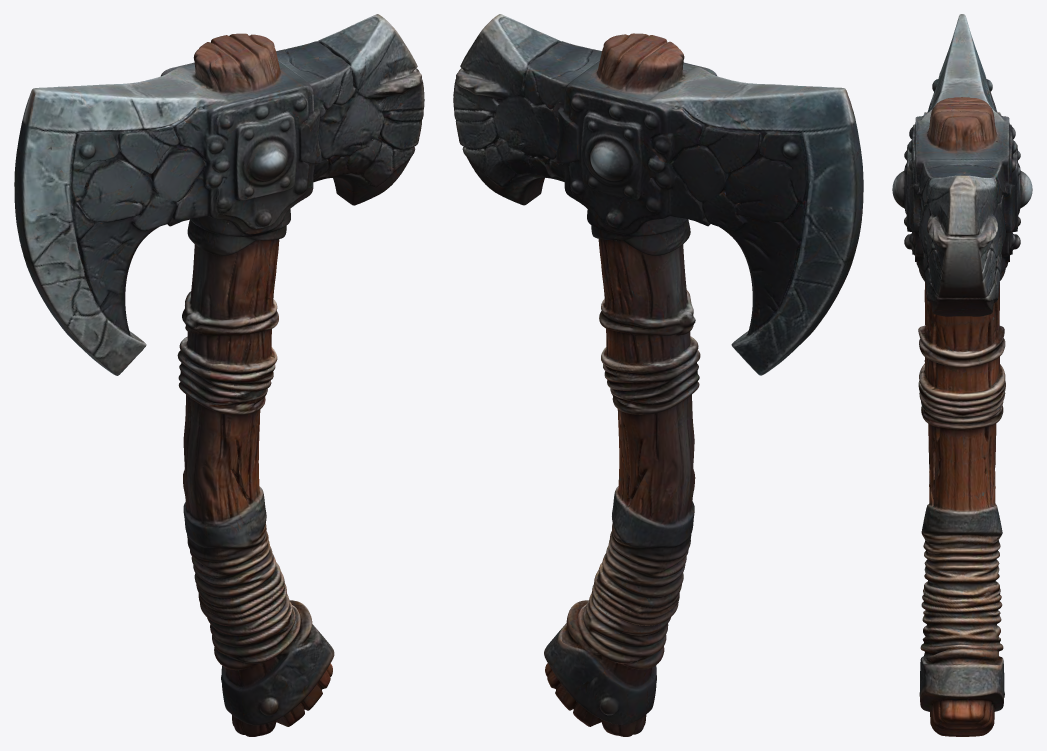
The model's file is PF_Axe11.glb.
3 views of the same model, side by side, from view 1: azimuth 30°, elevation 25°; view 2: azimuth 150°, elevation 25°; view 3: azimuth 270°, elevation 25° (orthographic). The views are drawn at different scales.
Size of the model in its own units: 1.13 by 1.9 by 0.3879.
Materials: 1 (1 with a texture image).
